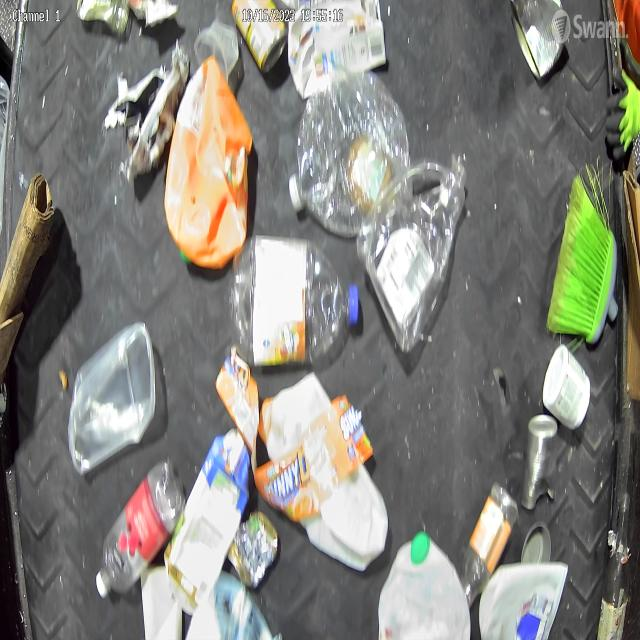can: (518, 409, 566, 513), (227, 0, 290, 76), (228, 506, 280, 598), (510, 0, 571, 75), (73, 0, 133, 37)
milk_jug: (259, 378, 390, 571), (371, 527, 476, 640), (478, 559, 569, 640)
non_white_jug: (165, 43, 255, 278)
plastic_bottle: (288, 74, 411, 243), (231, 233, 360, 381), (94, 455, 183, 601), (459, 480, 519, 627)
